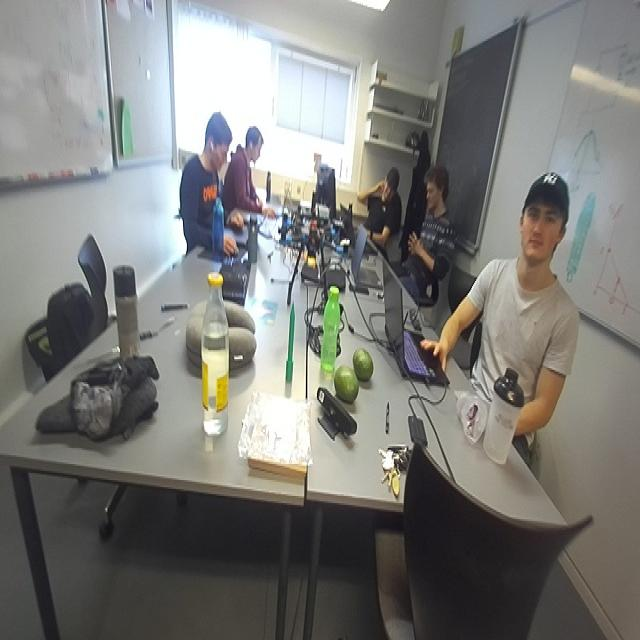probe: (285, 302, 293, 382)
